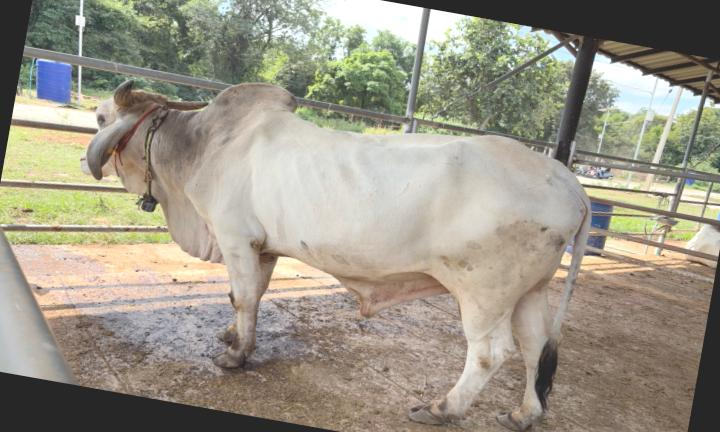Brahman: (83, 82, 591, 430)
